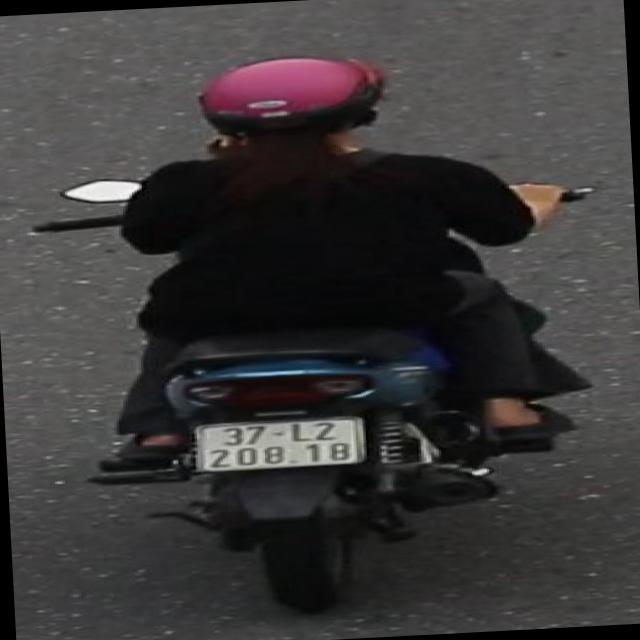LP: (189, 409, 375, 476)
helmet: (191, 48, 400, 164)
